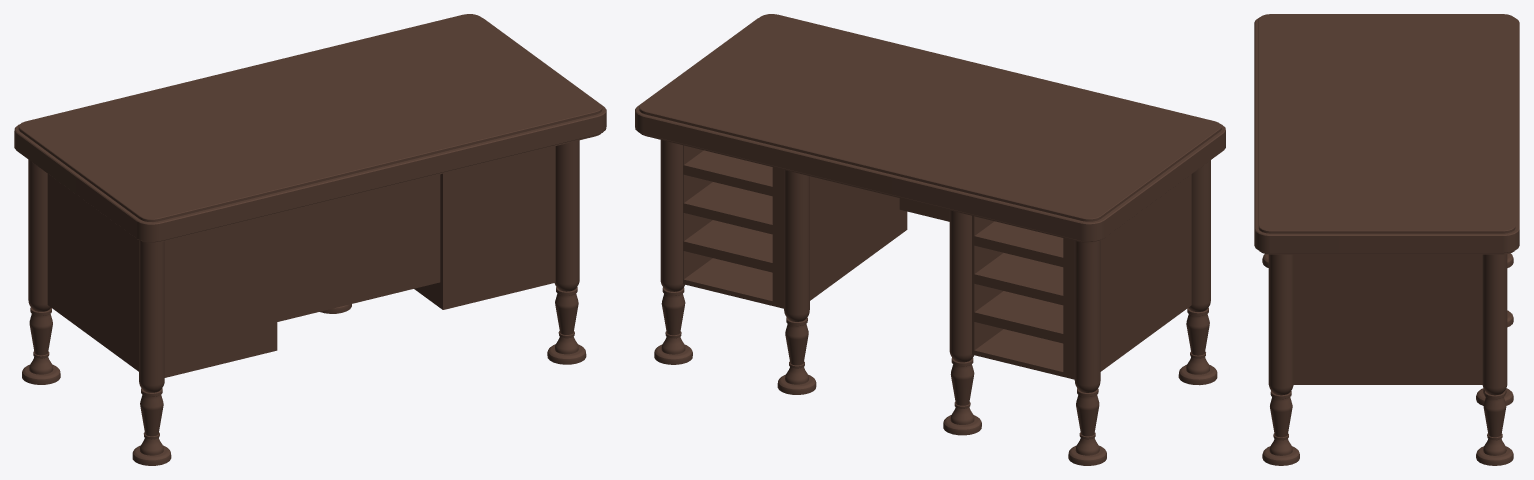
File: SM_Desk_001.fbx
3 views of the same model, side by side, from view 1: azimuth 30°, elevation 25°; view 2: azimuth 150°, elevation 25°; view 3: azimuth 270°, elevation 25° (orthographic). The views are drawn at different scales.
Parts seen in each view (by area): view 1: SM_Desk_001_group31_pCylinder8; view 2: SM_Desk_001_group31_pCylinder8; view 3: SM_Desk_001_group31_pCylinder8.
Part boxes in pixels (left/top/right/bottom): SM_Desk_001_group31_pCylinder8: left=14, top=14, right=606, bottom=465; SM_Desk_001_group31_pCylinder8: left=635, top=14, right=1225, bottom=465; SM_Desk_001_group31_pCylinder8: left=1254, top=14, right=1519, bottom=465.
Size of the model in its own units: 154 by 78.55 by 78.42.
